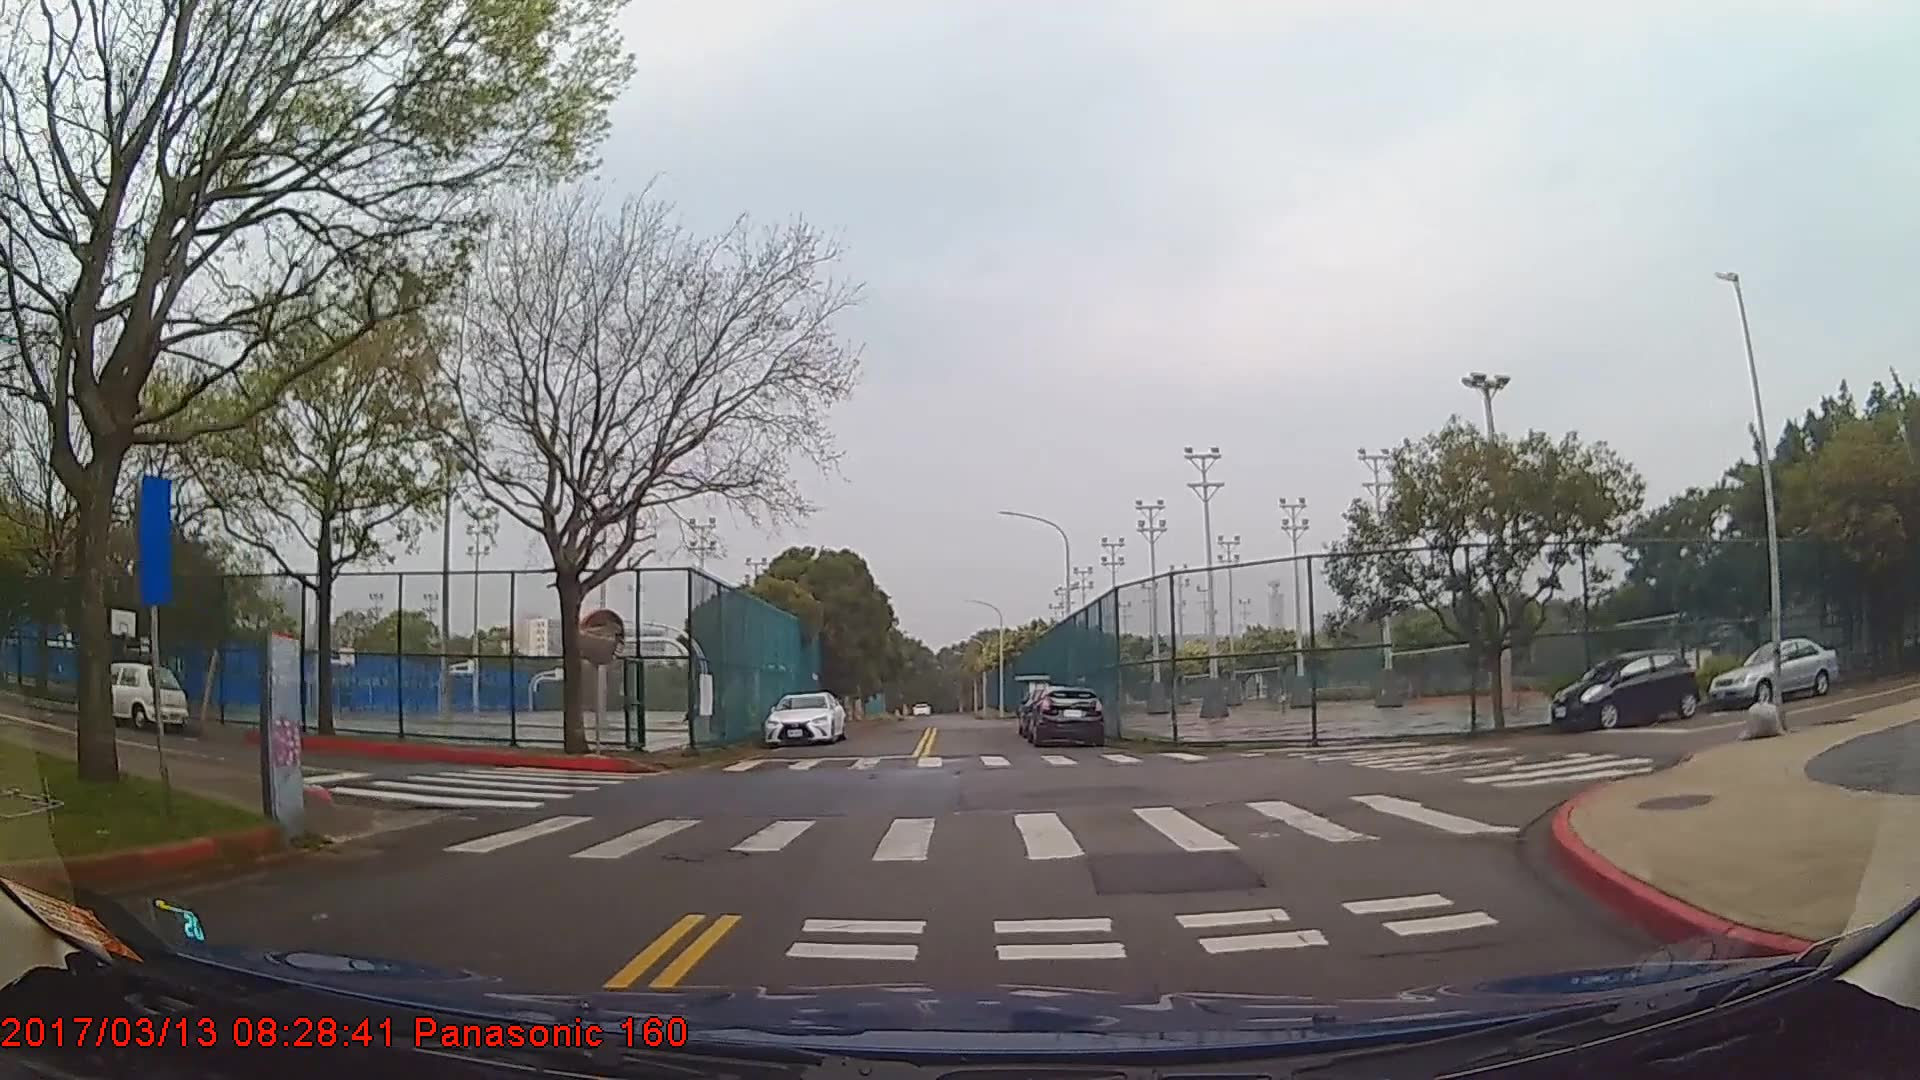vehicle: (1549, 649, 1698, 733), (1706, 640, 1838, 705), (76, 659, 187, 727), (1025, 686, 1102, 749), (764, 690, 845, 746)
